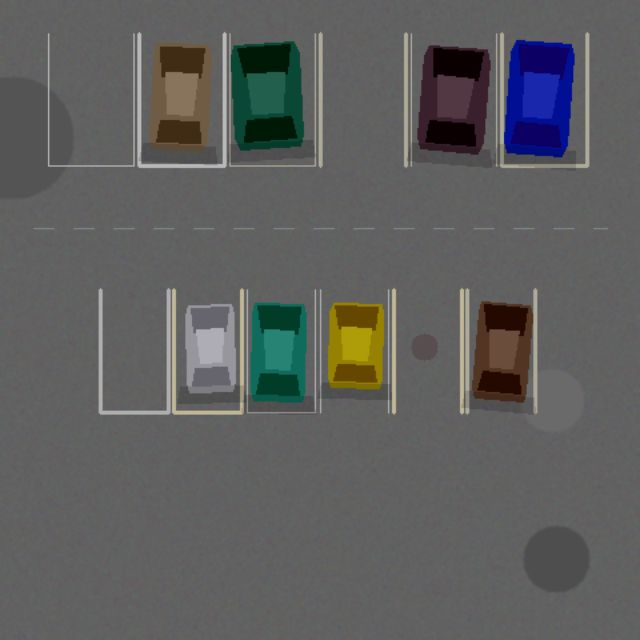space-empty: (48, 33, 133, 165), (320, 33, 405, 165), (100, 289, 168, 412), (393, 289, 461, 412)
space-occupied: (229, 33, 315, 165), (501, 33, 587, 165), (139, 33, 224, 165), (411, 33, 496, 165), (173, 289, 241, 412), (247, 289, 315, 412), (320, 289, 388, 412), (467, 289, 535, 412)
